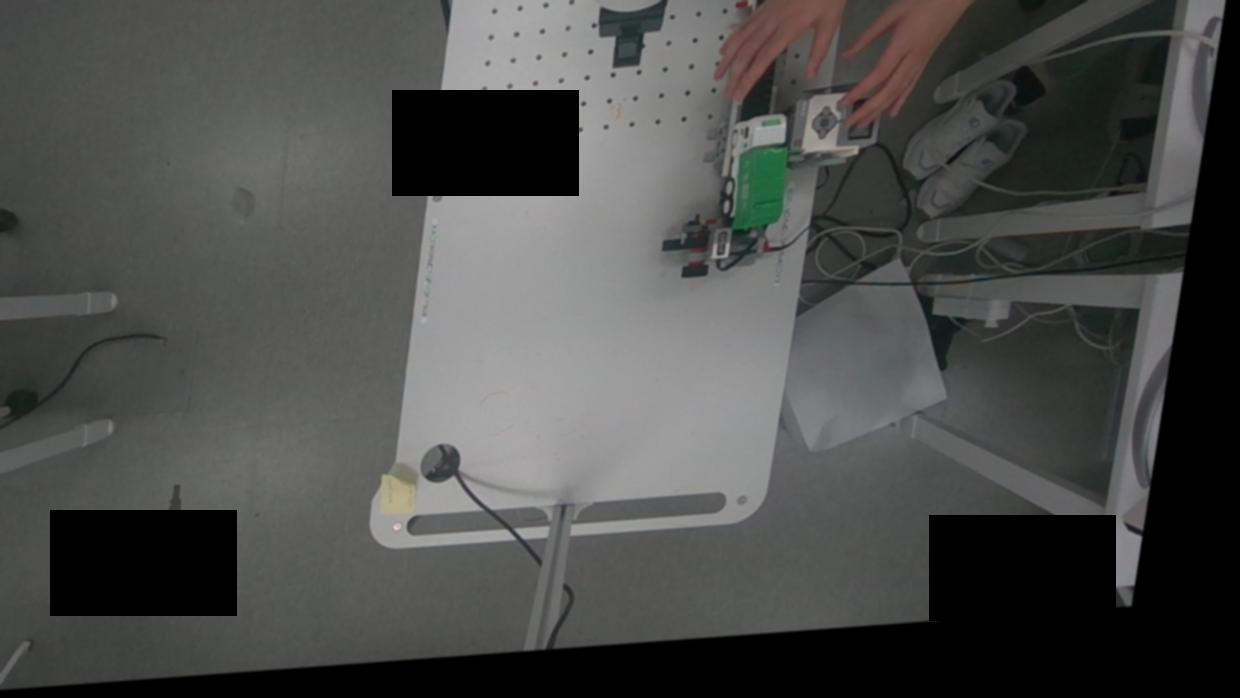truck: (701, 106, 803, 241)
